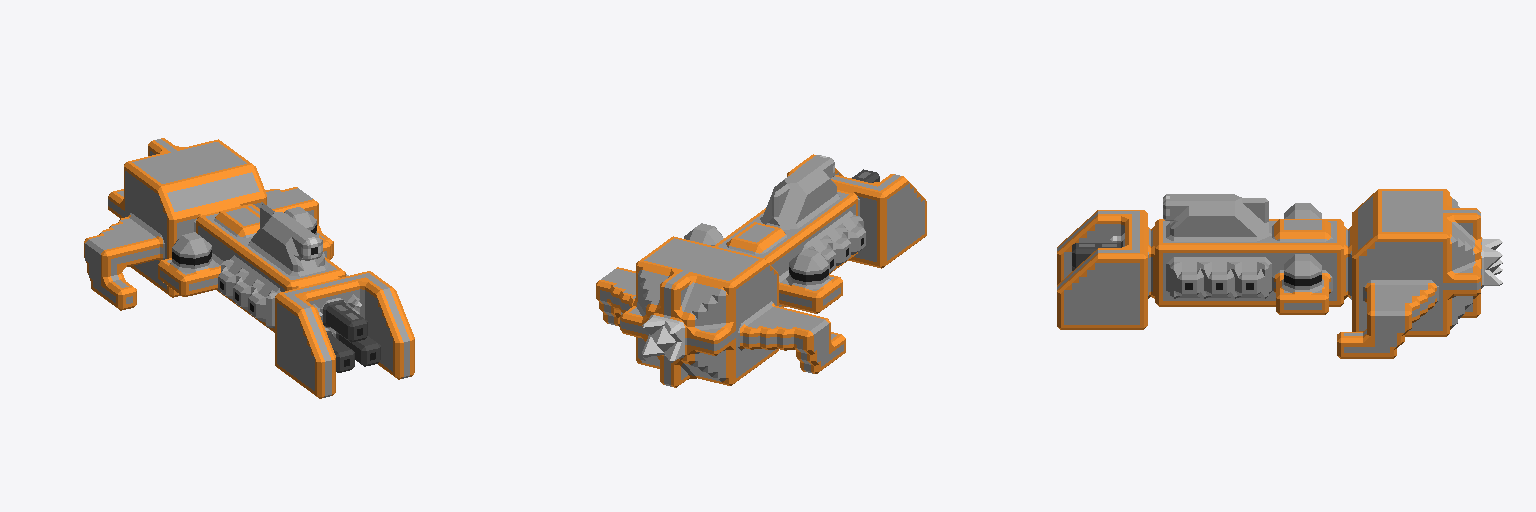
3 views of the same model, side by side, from view 1: azimuth 30°, elevation 25°; view 2: azimuth 150°, elevation 25°; view 3: azimuth 270°, elevation 25° (orthographic).
Bounding box in the file's own units: 33 × 17 × 59.
1 materials, 1 textured.